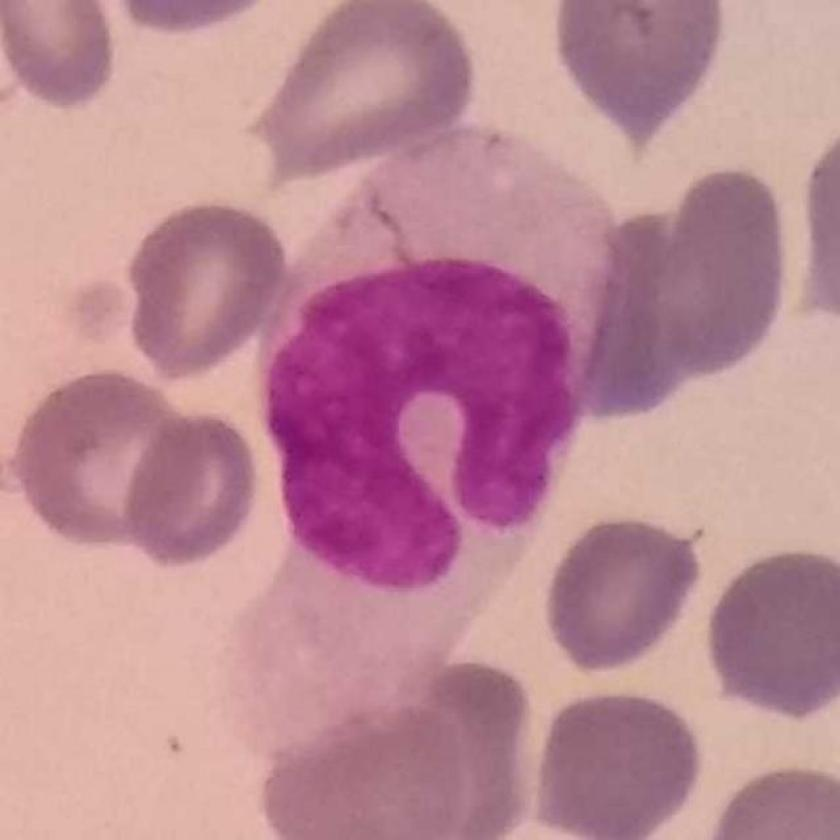monocyte: (238, 114, 618, 767)
